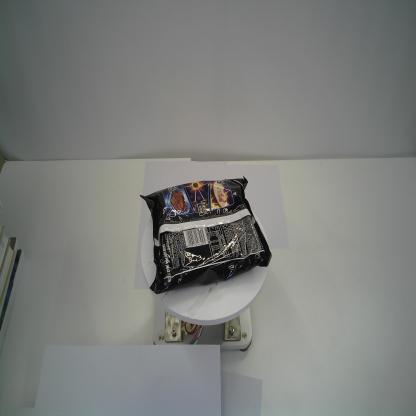Instant Noodles: (139, 177, 272, 297)
